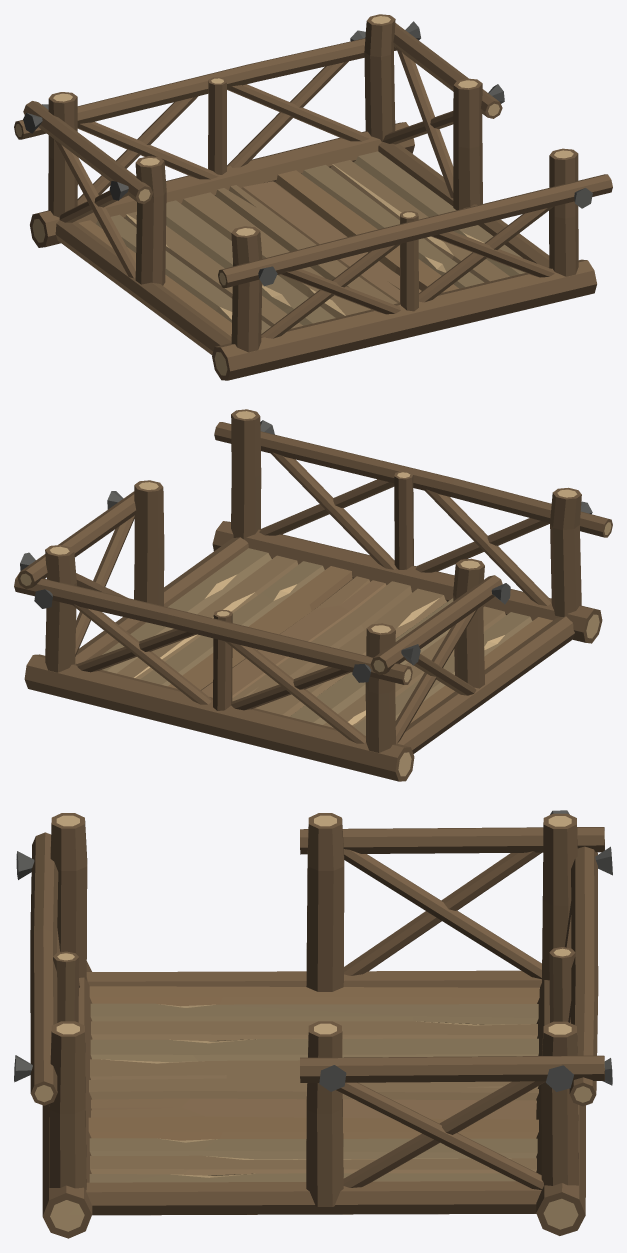
The model's file is rpgpp_ag_tower_01_platform_01c.fbx.
3 views of the same model, one above another, from view 1: azimuth 30°, elevation 25°; view 2: azimuth 150°, elevation 25°; view 3: azimuth 270°, elevation 25° (orthographic). The views are drawn at different scales.
Parts seen in each view (by area): view 1: rpgpp_ag_tower_01_platform_01c; view 2: rpgpp_ag_tower_01_platform_01c; view 3: rpgpp_ag_tower_01_platform_01c.
Boxes of the visible parts, <box> form: rpgpp_ag_tower_01_platform_01c: <box>14,14,612,380</box>; rpgpp_ag_tower_01_platform_01c: <box>14,409,612,781</box>; rpgpp_ag_tower_01_platform_01c: <box>14,810,612,1238</box>.
Bounding box in the file's own units: 4.84 × 1.72 × 4.81.
